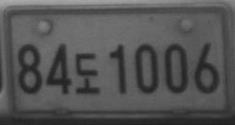0: (133, 42, 159, 94), (163, 42, 189, 93)
1: (107, 42, 131, 94)
4: (45, 43, 72, 94)
6: (193, 42, 220, 94)
8: (15, 42, 43, 95)
도: (74, 52, 100, 94)
